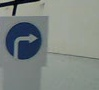right: (5, 22, 42, 60)
